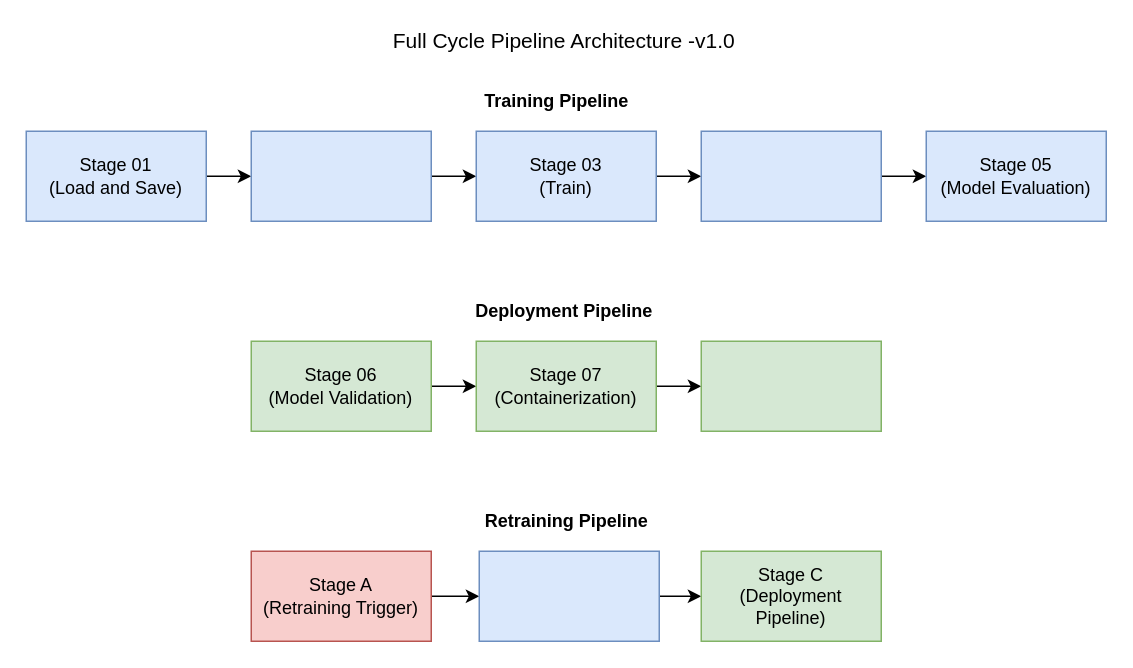
This 1133x668 diagram has some shape labels left out. The shapes that lost their labels are listed below. From the top down, each one's centre as x and y in pixels, then its label:
At point 340,175: "Stage 02 (Prepare Data)".
At point 790,175: "Stage 04 (ONNX)".
At point 790,385: "Stage 08 (Scaled Cluster Deployment)".
At point 568,595: "Stage B (Training Pipeline)".
